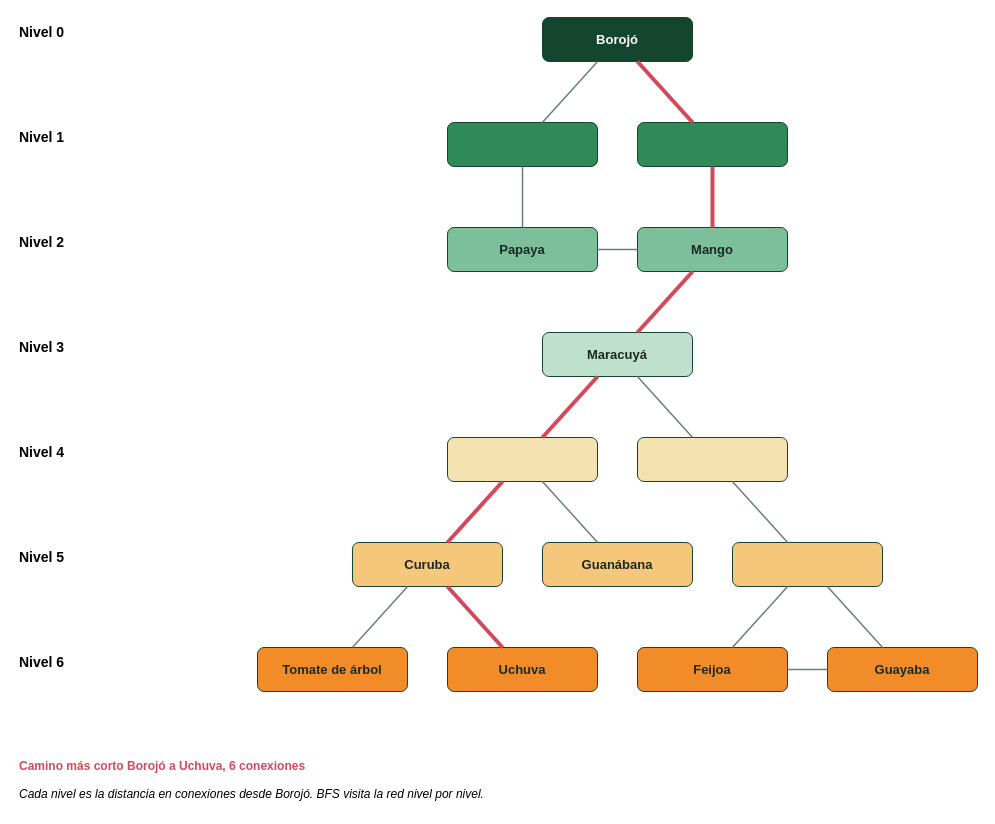
Some shapes in this 995 by 824 pixel diagram are drawn without their labels. Each missing label, with the centre of its shape:
Chontaduro: [522,144]
Granadilla: [522,459]
Lulo: [712,459]
Mamoncillo: [712,144]
Mora: [807,564]
